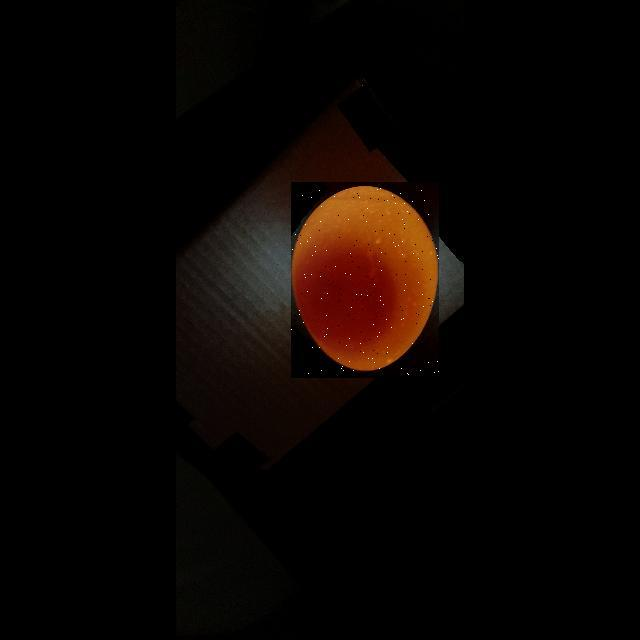Fertile: (291, 182, 439, 378)
